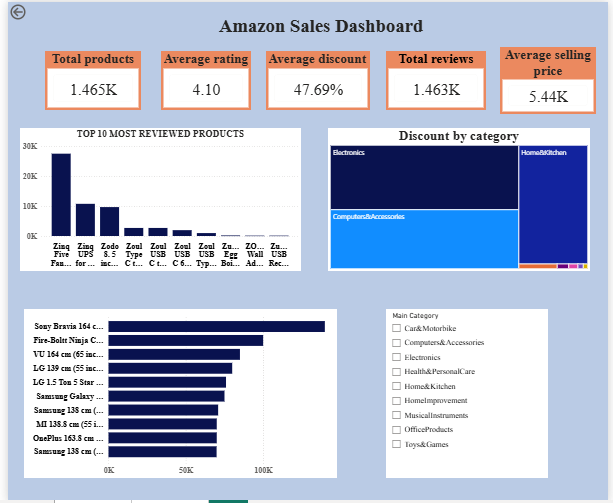

Layout of this report page (visuals, bound fields, positions):
{"tool":"powerbi","page":{"name":"Page 2","canvas":[1200,1000],"ordinal":1},"visuals":[{"type":"textbox","box":[334,20,584,56],"z":0},{"type":"clusteredBarChart","title":"TOP 7 MOST EXPENSIVE PRODUCTS","fields":{"Category":["Sheet1.product_name"],"Y":["Sum(Sheet1.actual_price)"]},"box":[32,614,626,338],"z":1000},{"type":"columnChart","title":"TOP 10 MOST REVIEWED PRODUCTS","fields":{"Category":["Sheet1.product_name"],"Y":["Sum(Sheet1.rating_count)"]},"box":[24,252,562,286],"z":2000},{"type":"actionButton","box":[0,0,100,40],"z":3000},{"type":"cardVisual","title":"Total products","fields":{"Data":["Sheet1.total_products"]},"box":[74,98,192,118],"z":4000},{"type":"cardVisual","title":"Average discount","fields":{"Data":["Sheet1.avg_discount"]},"box":[516,98,208,118],"z":5000},{"type":"cardVisual","title":"Average rating","fields":{"Data":["Sheet1.avg_rating"]},"box":[306,98,180,118],"z":6000},{"type":"cardVisual","title":"Total reviews","fields":{"Data":["Sheet1.total_reviews"]},"box":[756,98,200,118],"z":7000},{"type":"cardVisual","title":"Average selling price","fields":{"Data":["Sheet1.avg_sales"]},"box":[984,90,192,134],"z":8000},{"type":"treemap","title":"Discount by category","fields":{"Group":["Sheet1.Main Category"],"Values":["Sum(Sheet1.discount_percentage)"]},"box":[640,252,524,286],"z":9000},{"type":"slicer","fields":{"Values":["Sheet1.Main Category"]},"box":[756,614,324,338],"z":10000}]}

Visuals, with their boxes on the page's 1200x1000 design canvas (x1, y1, x2, y2). These are canvas units, not pixel positions in the 613x503 screenshot, which may show the page scaled, cropped or inside an application window:
textbox: left=334, top=20, right=918, bottom=76
"TOP 7 MOST EXPENSIVE PRODUCTS" clusteredBarChart: left=32, top=614, right=658, bottom=952
"TOP 10 MOST REVIEWED PRODUCTS" columnChart: left=24, top=252, right=586, bottom=538
actionButton: left=0, top=0, right=100, bottom=40
"Total products" cardVisual: left=74, top=98, right=266, bottom=216
"Average discount" cardVisual: left=516, top=98, right=724, bottom=216
"Average rating" cardVisual: left=306, top=98, right=486, bottom=216
"Total reviews" cardVisual: left=756, top=98, right=956, bottom=216
"Average selling price" cardVisual: left=984, top=90, right=1176, bottom=224
"Discount by category" treemap: left=640, top=252, right=1164, bottom=538
slicer - Sheet1.Main Category: left=756, top=614, right=1080, bottom=952
